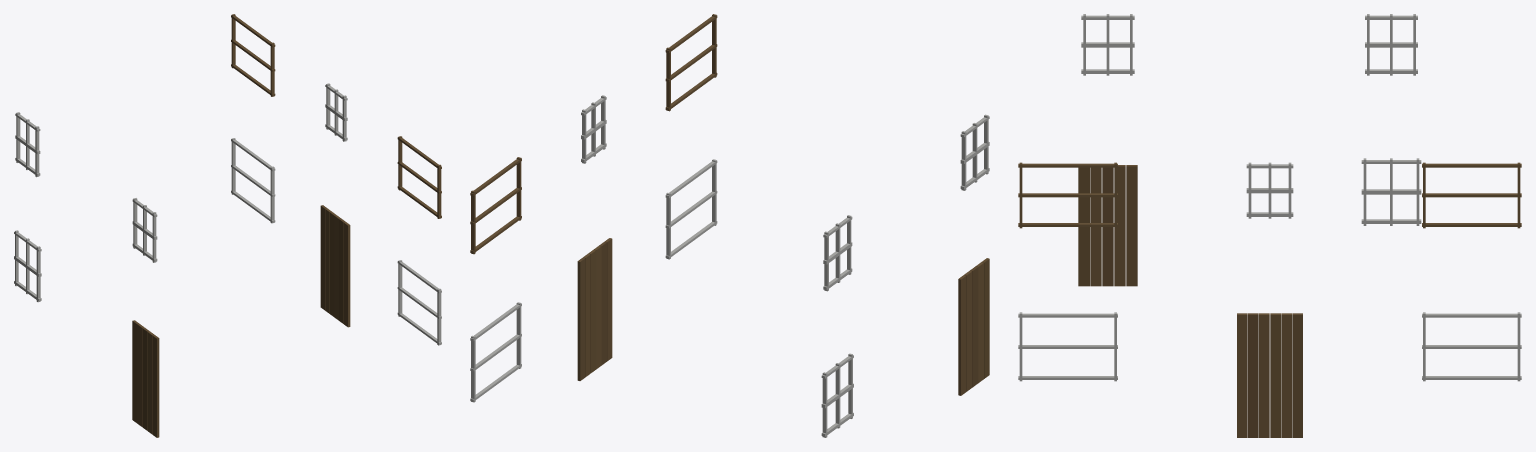
File: SM_Bld_149_Wood.glb
3 renders of one model, left to right at view 1: azimuth 30°, elevation 25°; view 2: azimuth 150°, elevation 25°; view 3: azimuth 270°, elevation 25°, orthographic. The views are drawn at different scales.
Parts seen in each view (by area): view 1: SM_Bld_149_Wood; view 2: SM_Bld_149_Wood; view 3: SM_Bld_149_Wood.
Part boxes in pixels (x1,y1,x2,y2): SM_Bld_149_Wood: (14,14,441,437); SM_Bld_149_Wood: (470,14,989,437); SM_Bld_149_Wood: (1018,14,1521,437).
Bounding box in the file's own units: 5.51 × 4.57 × 7.59.
